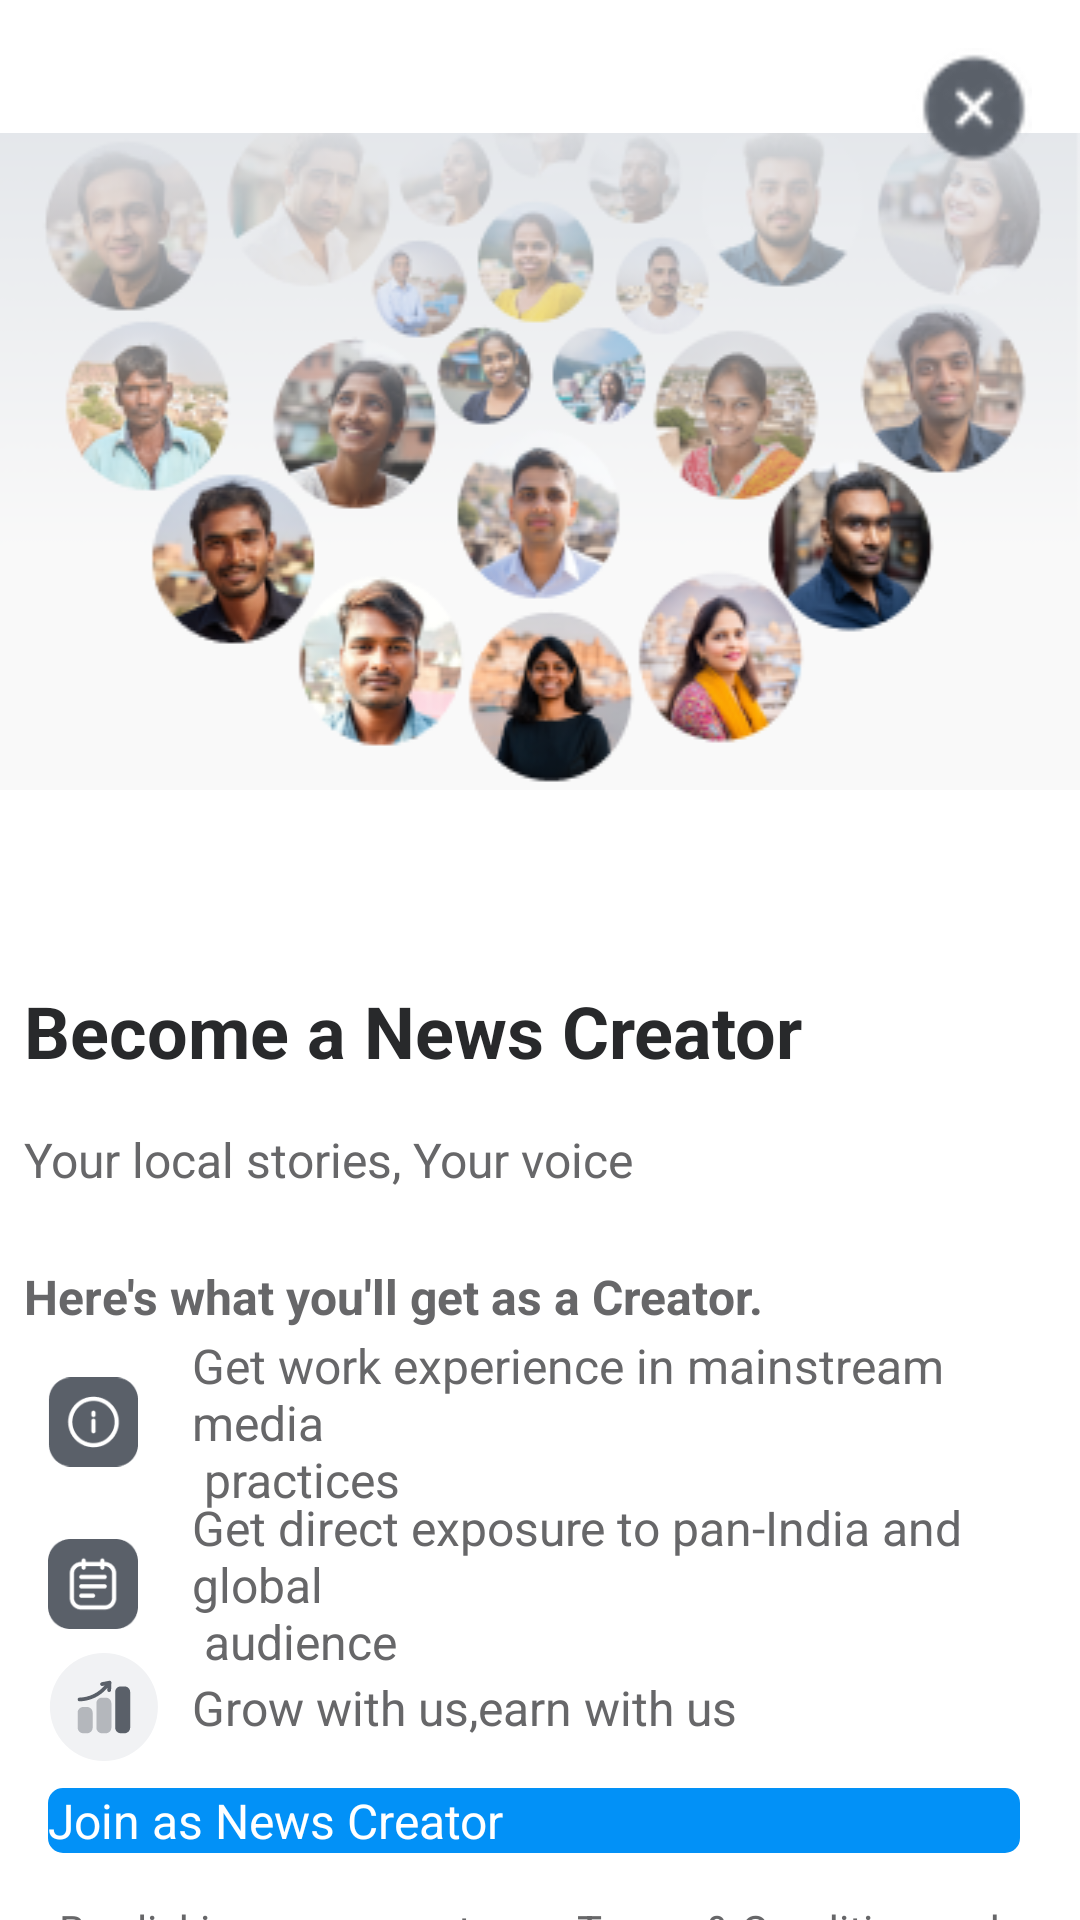

Named icons in this screenshot (1080w x 1920h) and their centers, (x=x, y=y):
about us: (x=93, y=1422)
cross: (x=972, y=108)
join grow with us: (x=104, y=1707)
